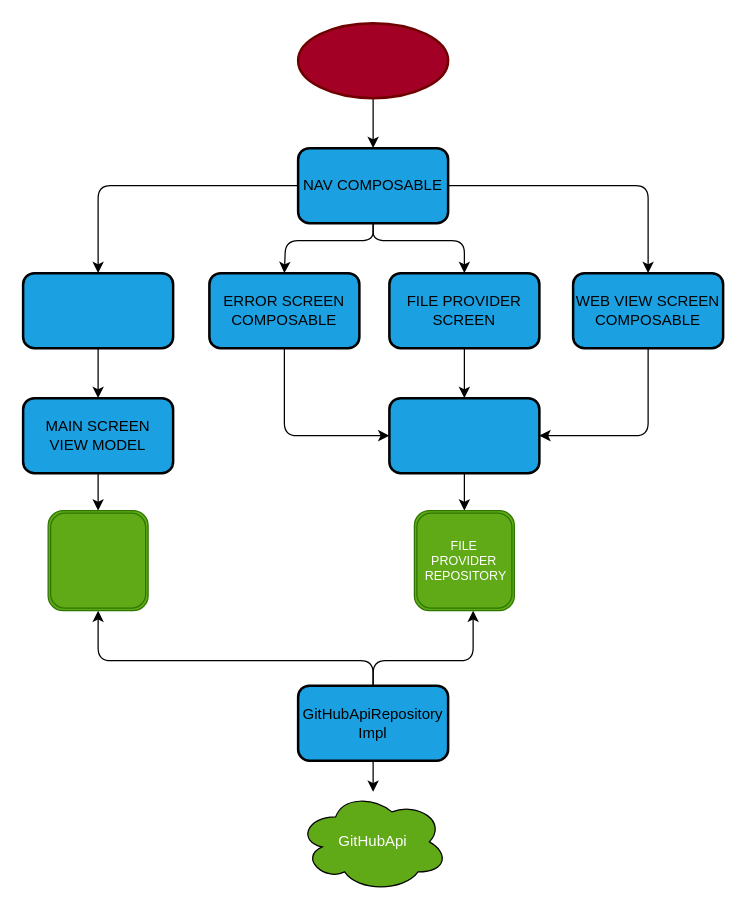
This 745x914 diagram has some shape labels left out. The shapes that lost their labels are listed below. From the top down, each one's box as (x1, y1, x2, y2) in pixels, then its label:
(296, 21, 449, 99): ACTIVITY
(21, 271, 174, 349): MAIN SCREEN COMPOSABLE
(388, 396, 540, 474): FILE PROVIDER SCREEN VIEW MODEL
(47, 509, 148, 611): SEARCH REPOSITORY
